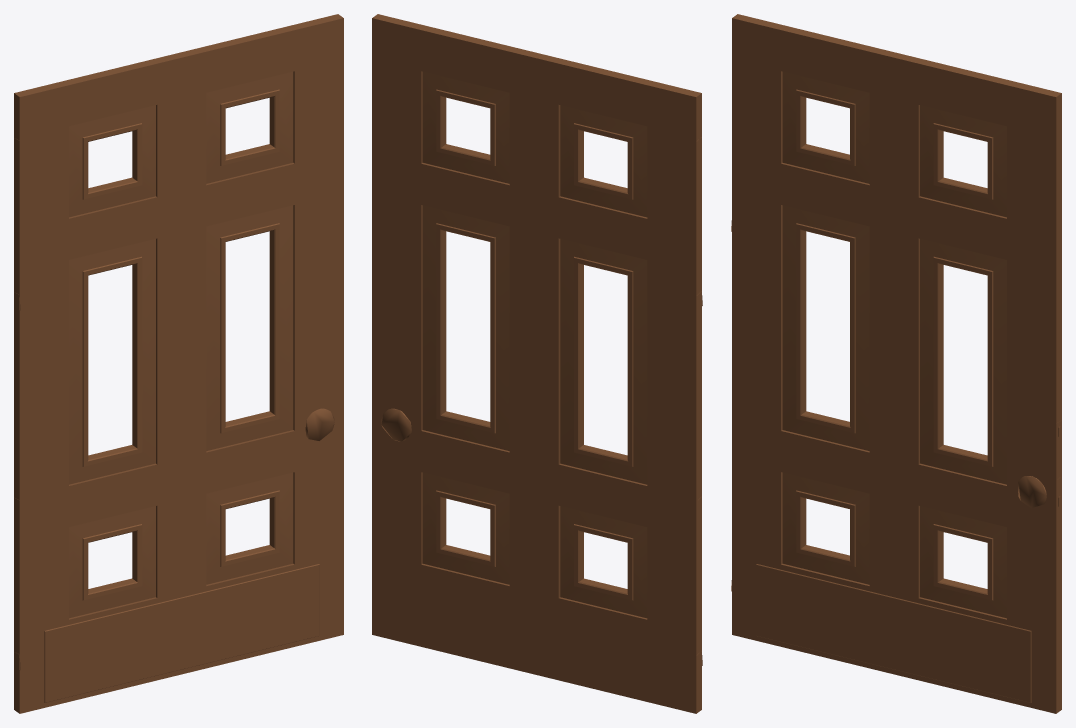
The model's file is wood_door-68fb2c4e.glb.
The picture shows the model from 3 angles, left to right: view 1: azimuth 30°, elevation 25°; view 2: azimuth 150°, elevation 25°; view 3: azimuth 330°, elevation 25°; orthographic projection.
Parts seen in each view (by area): view 1: base_base_0; view 2: base_base_0; view 3: base_base_0.
Part boxes in pixels (x1,y1,x2,y2): base_base_0: [14, 14, 343, 713]; base_base_0: [372, 14, 702, 713]; base_base_0: [731, 14, 1061, 713].
Bounding box in the file's own units: 6.62 × 12 × 0.249.
